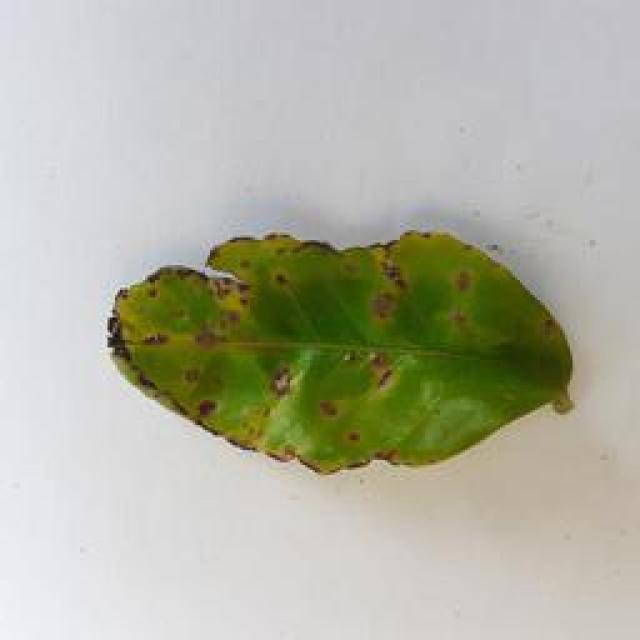Helopeltis: (82, 224, 580, 481)
